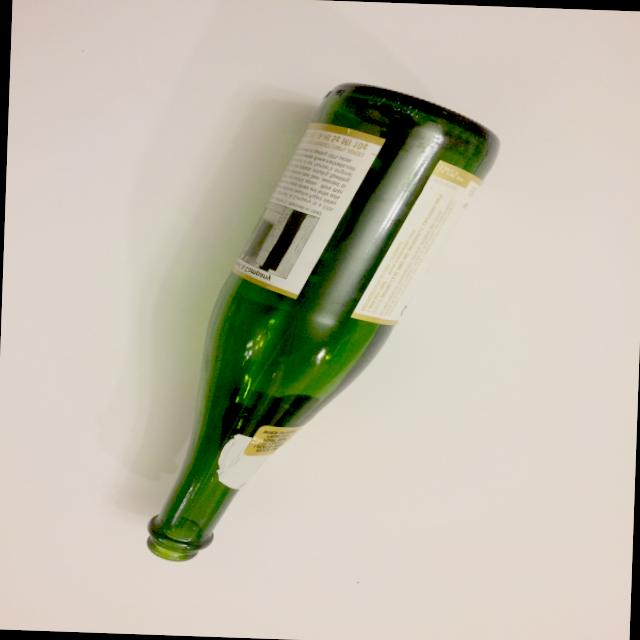Glass: (129, 67, 508, 580)
